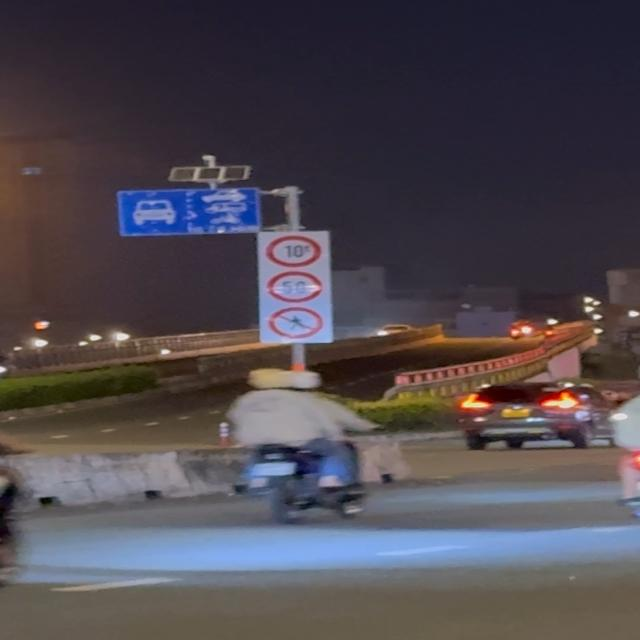Bien bao cam nguoi di bo: (264, 306, 326, 341)
Bien bao toc do toi da cho phep: (266, 271, 326, 304)
